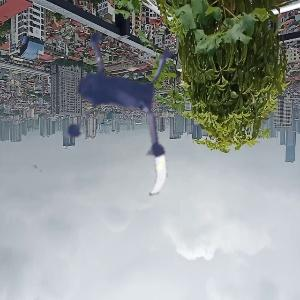drone: (9, 9, 211, 211)
